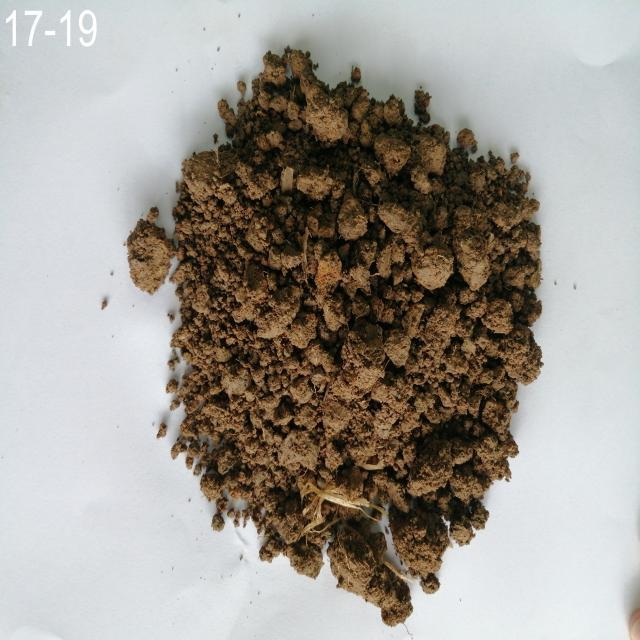soil: (226, 124, 470, 489)
